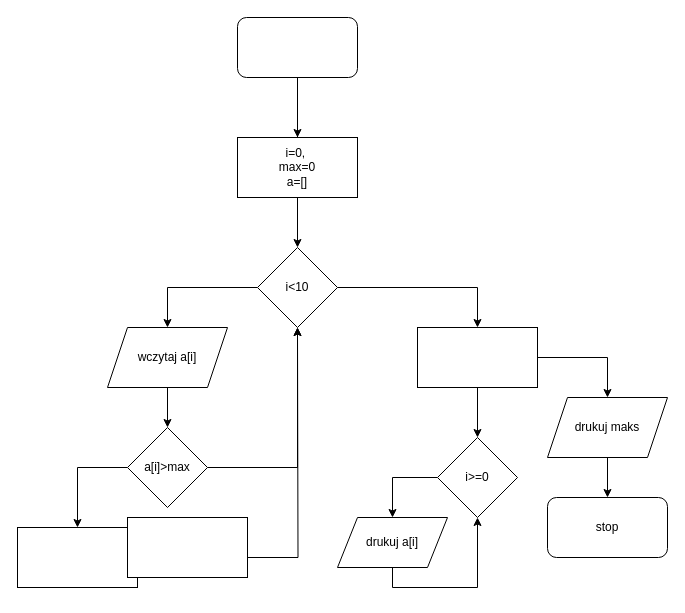
The diagram is 685 pixels wide and 613 high, and some of its shapes have lost their labels. The centre of each missing label's shape, as x and y in pixels:
"i=9" belongs at point (477, 357).
"i=i+1" belongs at point (187, 547).
"max=a[i]" belongs at point (77, 557).
"start" belongs at point (297, 47).
